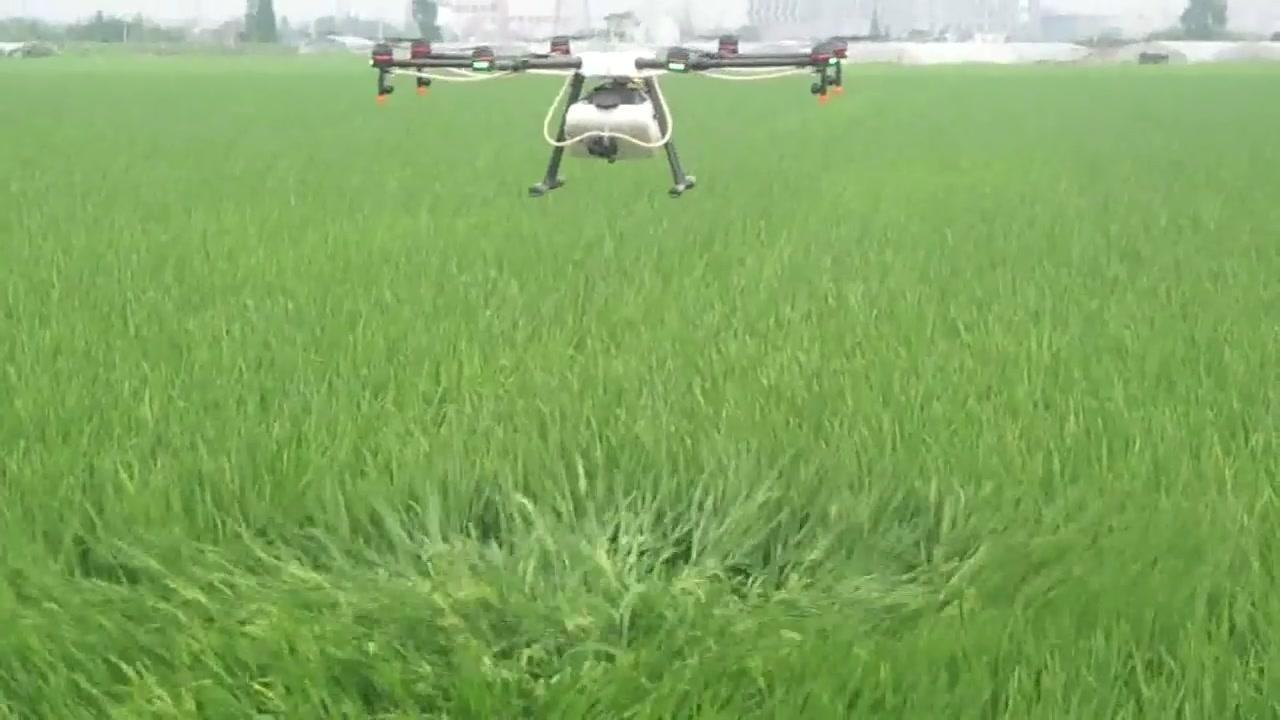UAV: (340, 32, 851, 202)
